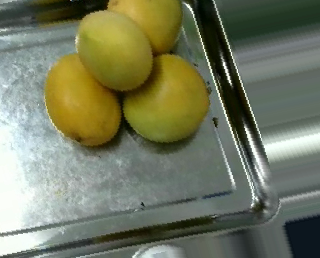Mango: (119, 48, 215, 148), (44, 48, 123, 152), (69, 10, 159, 94), (105, 0, 185, 57)
